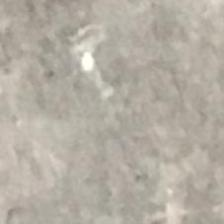Non_Crack: (44, 25, 209, 176)
